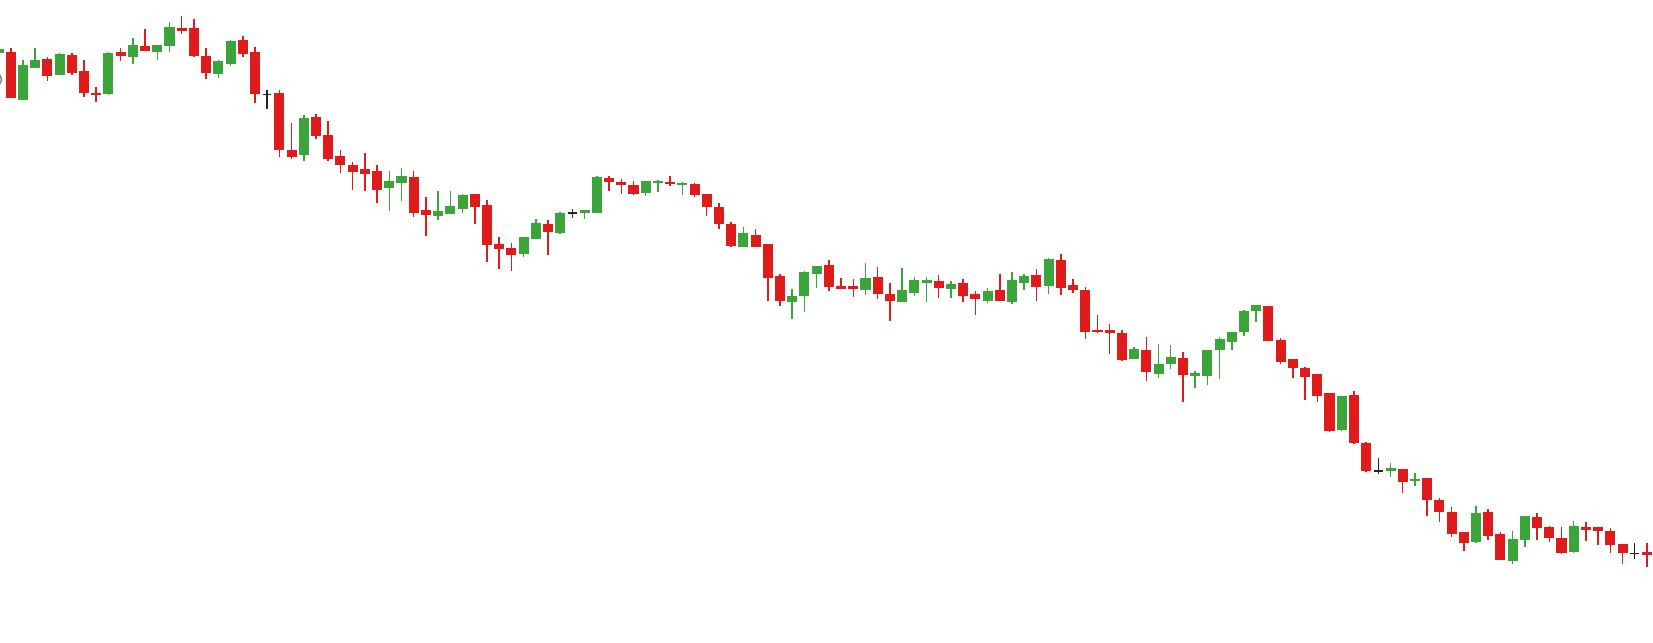buy: (422, 200, 543, 275)
